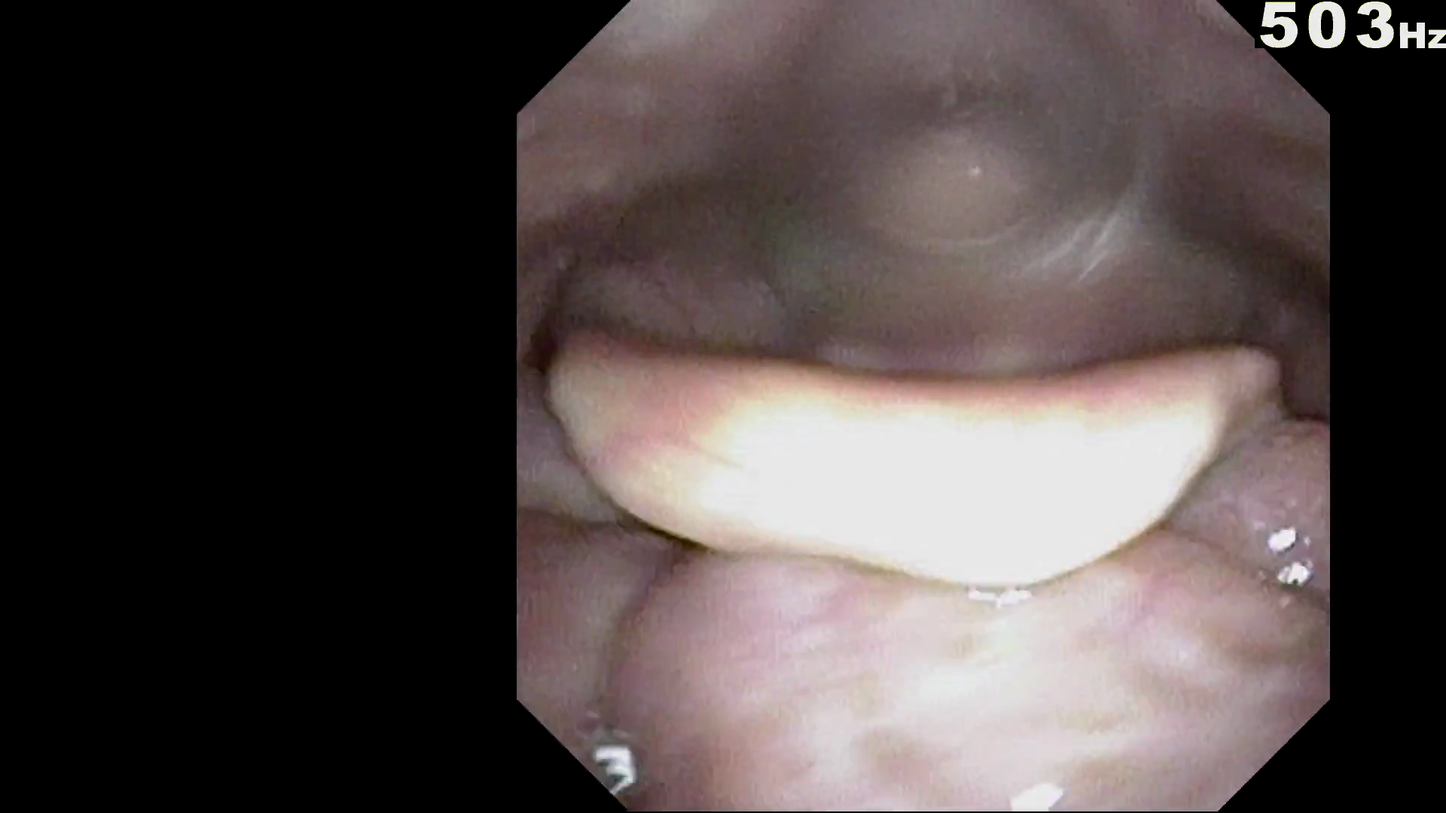epiglottis: (616, 351, 1231, 576)
